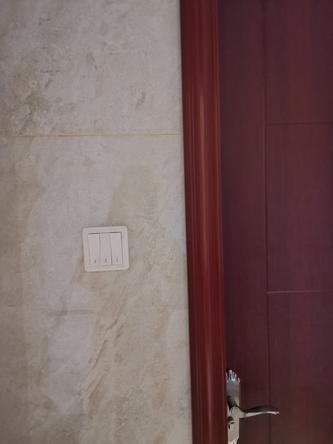switch: (96, 231, 115, 270), (108, 228, 126, 266), (87, 229, 101, 267)
